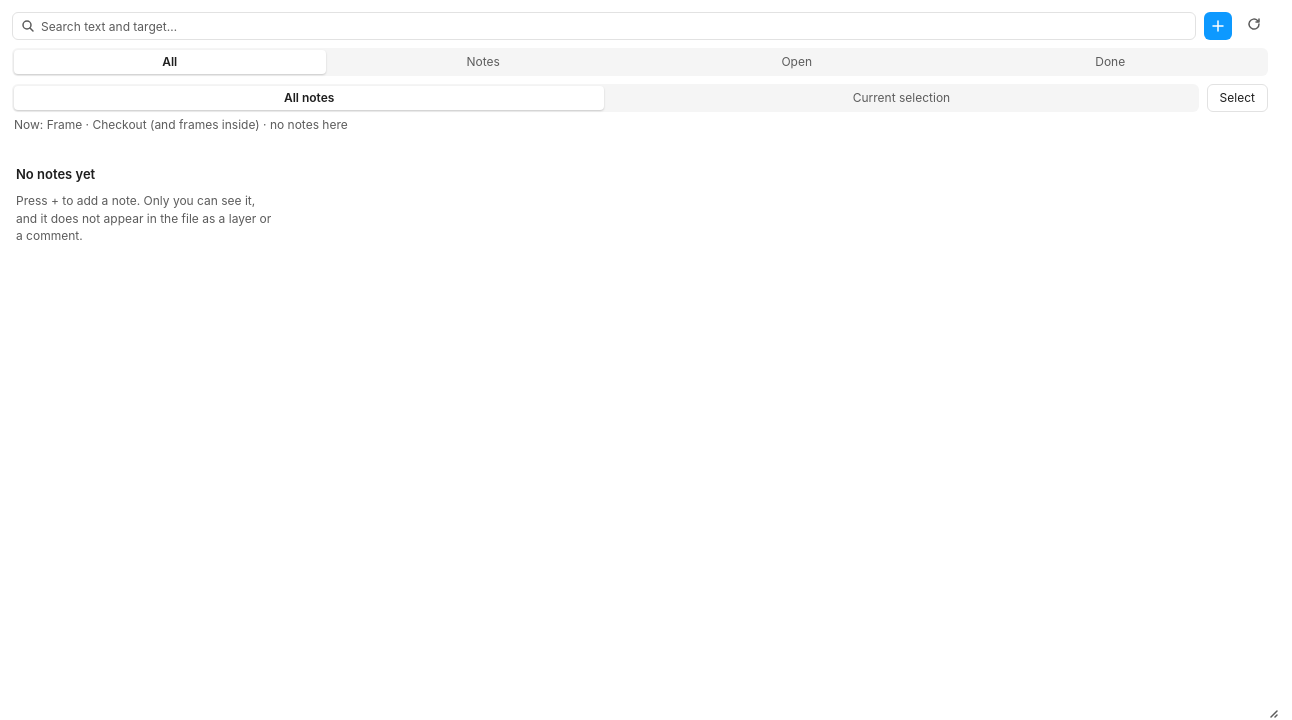
Smart Context in the window › shows how many notes are here, marks them and hides nothing
Expected: the button named "Add note" is shown, [1204,12,1232,40]
Click the button named "Refresh the list" at (1254, 26), box [1240,12,1268,40]
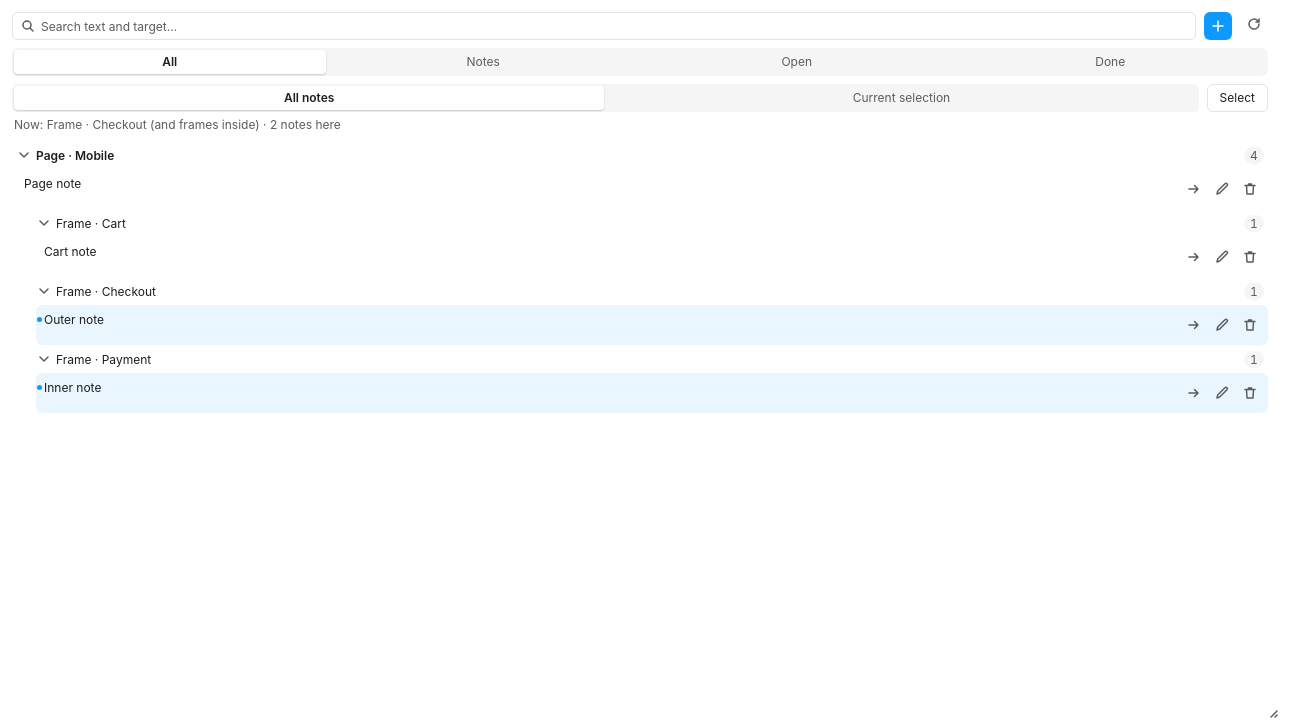
Now the text "Now: Frame · Checkout (and frames inside) · 2 notes here" is shown, box [14,117,341,132]
Now the text "Outer note" is shown, box [44,312,104,327]
Now the text "Inner note" is shown, box [44,380,101,395]
